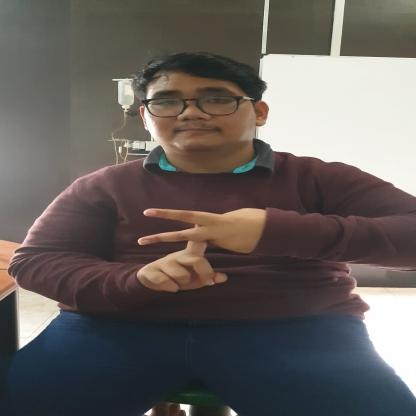F: (133, 206, 255, 294)
